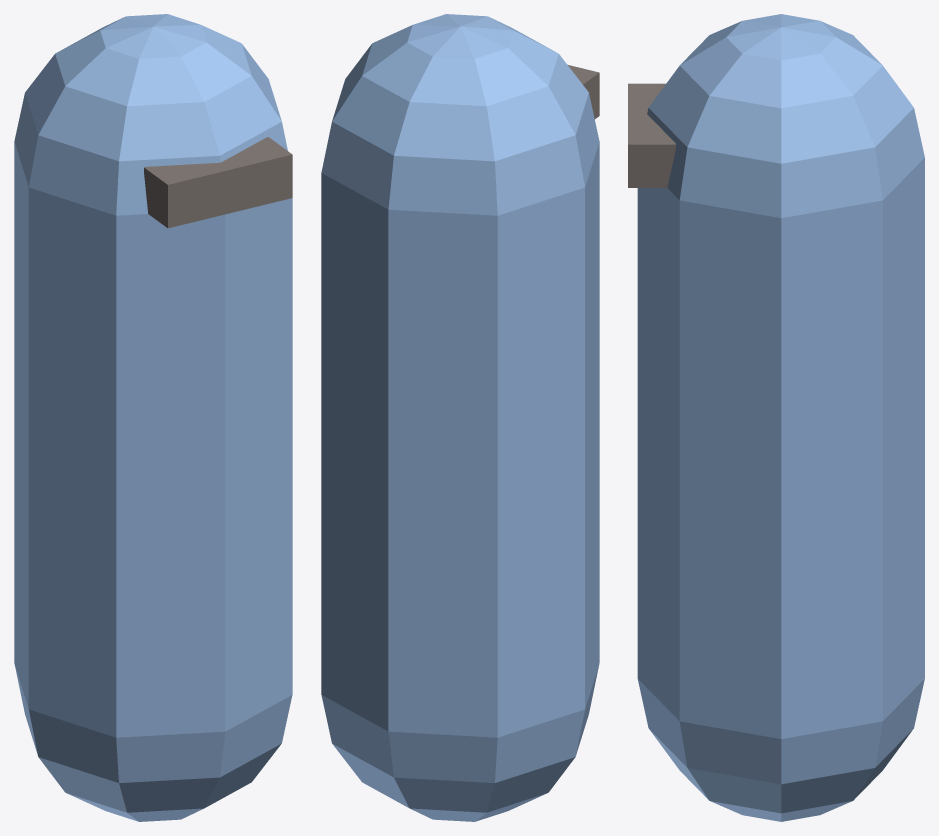
File: player_scale_ref.glb
3 views of the same model, side by side, from view 1: azimuth 30°, elevation 25°; view 2: azimuth 150°, elevation 25°; view 3: azimuth 270°, elevation 25° (orthographic).
Parts seen in each view (by area): view 1: player_scale_ref_player, player_scale_ref_dark; view 2: player_scale_ref_player, player_scale_ref_dark; view 3: player_scale_ref_player, player_scale_ref_dark.
Boxes of the visible parts, box(x1,y1,x2,y2) form: player_scale_ref_player: box(14, 14, 292, 821); player_scale_ref_dark: box(144, 137, 292, 228); player_scale_ref_player: box(321, 14, 599, 821); player_scale_ref_dark: box(567, 64, 599, 119); player_scale_ref_player: box(637, 14, 924, 821); player_scale_ref_dark: box(628, 83, 675, 187).
Bounding box in the file's own units: 0.6 × 1.8 × 0.62.
